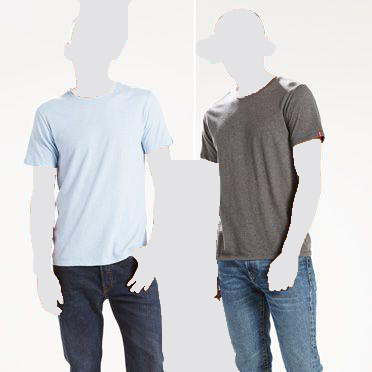teeshirt: (22, 81, 174, 265), (197, 78, 325, 268)
